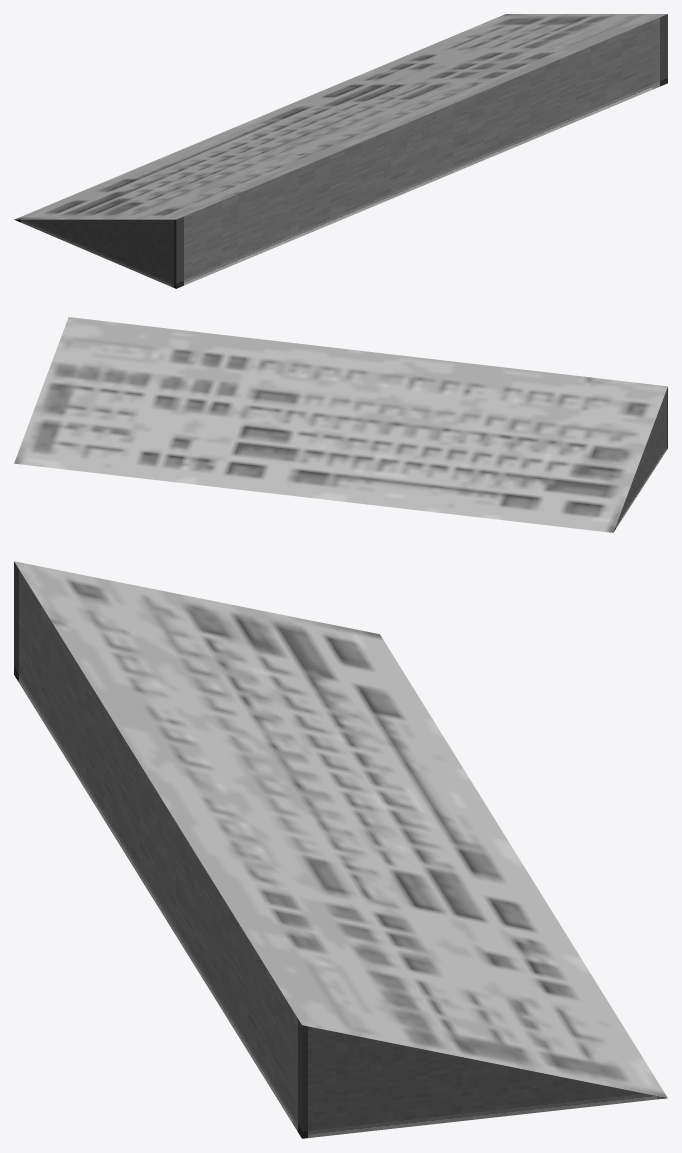
Rendered from primary_191.glb.
3 renders of one model, top to bottom at view 1: azimuth 30°, elevation 25°; view 2: azimuth 150°, elevation 25°; view 3: azimuth 270°, elevation 25°, orthographic. The views are drawn at different scales.
Parts seen in each view (by area): view 1: Object; view 2: Object; view 3: Object.
Boxes of the visible parts, x1,y1,x2,y2 form: Object: (14,14,667,288); Object: (14,317,667,532); Object: (14,561,667,1138).
Bounding box in the file's own units: 0.6246 × 0.0656 × 0.3421.
Materials: 4 (4 with a texture image).
